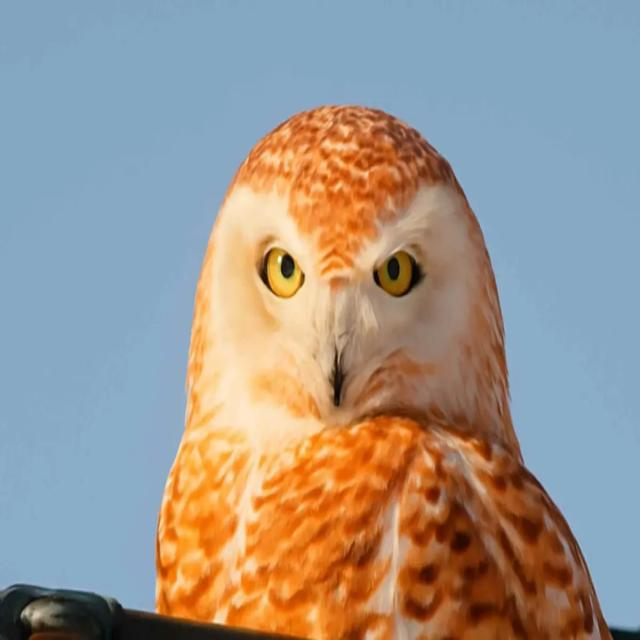snowy owl: (165, 78, 567, 618)
